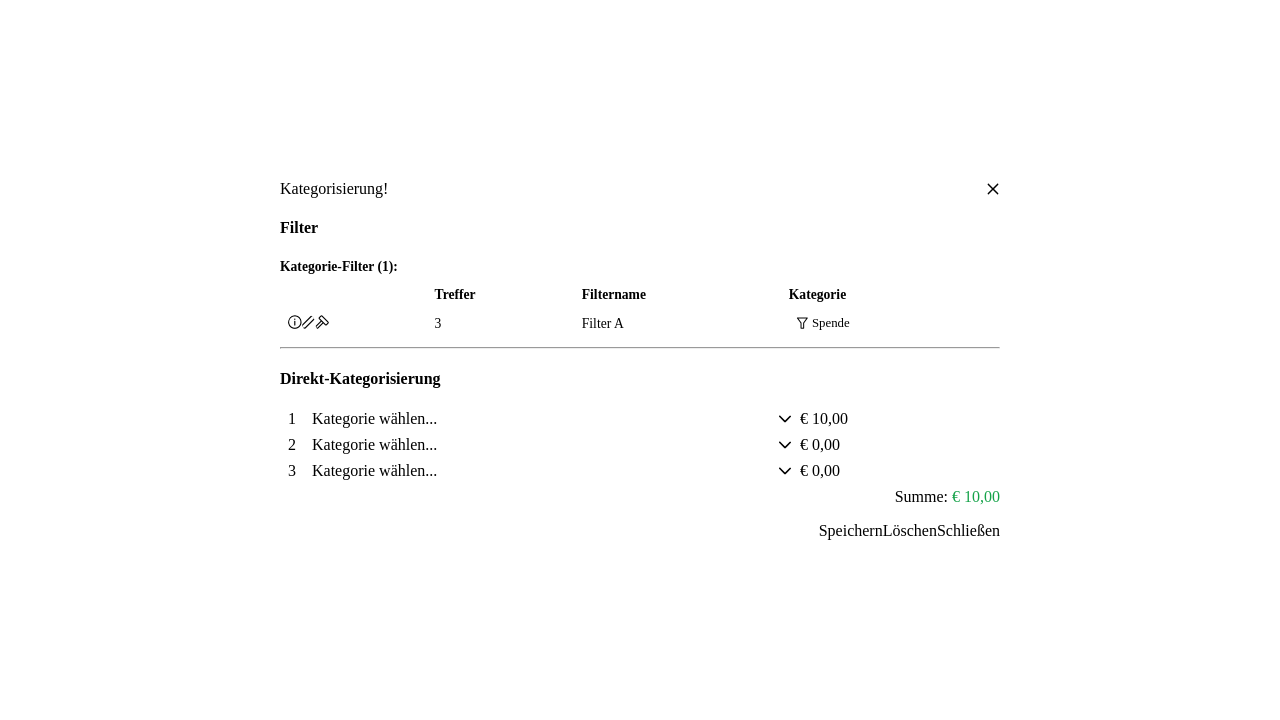
it: CategoryDirectEditor › lists existing filters with hit count and toggles details
Expected: the table with class "filter-table" shows "3", [435,316,441,331]
Expected: the element with class "category-badge" reads "Spende", [812,316,850,330]
Step 1. Click the button named "Details" → (295, 323), box [288,315,302,331]
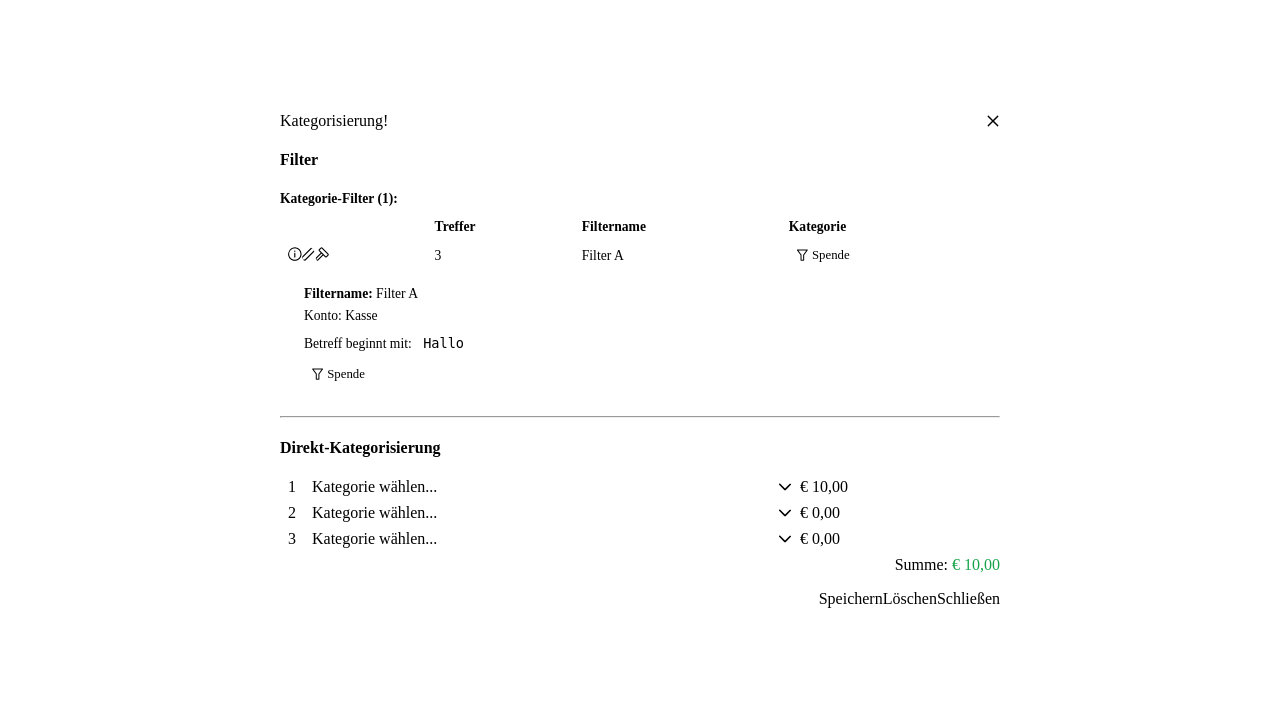
Expected: the element with class "filter-details" shows "beginnt mit:", [304,336,415,351]
Expected: the element with class "category-badge" below "Betreff beginnt mit:" reads "Spende", [327,367,365,381]
